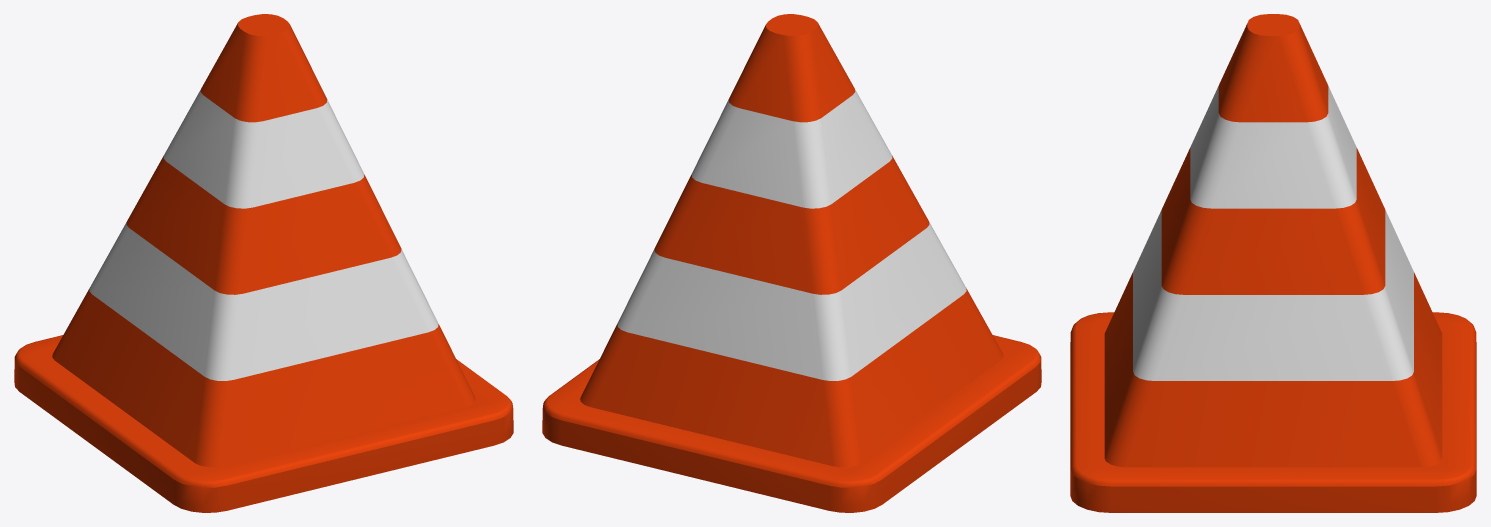
The model's file is Cono.fbx.
3 renders of one model, left to right at view 1: azimuth 30°, elevation 25°; view 2: azimuth 150°, elevation 25°; view 3: azimuth 270°, elevation 25°, orthographic. The views are drawn at different scales.
Parts seen in each view (by area): view 1: Plane; view 2: Plane; view 3: Plane.
Boxes of the visible parts, bbox=[...] form: Plane: bbox=[14, 14, 513, 512]; Plane: bbox=[542, 14, 1041, 512]; Plane: bbox=[1070, 14, 1476, 512].
Bounding box in the file's own units: 200 × 218 × 200.
